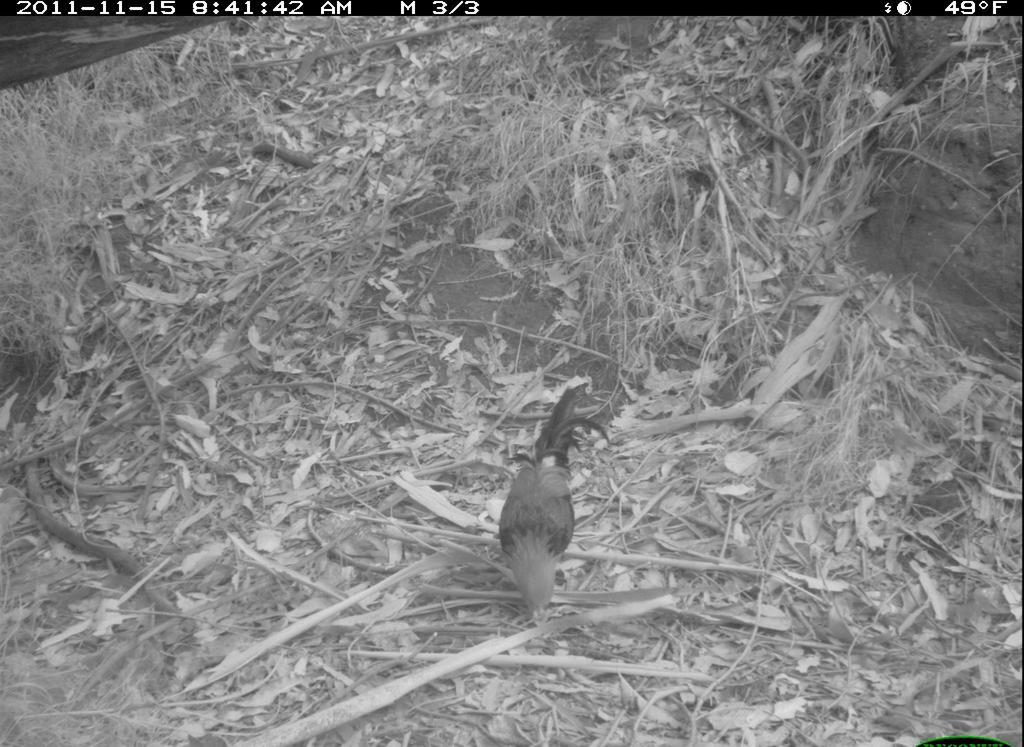bird: (493, 391, 603, 625)
